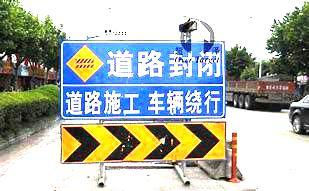sign: (58, 41, 227, 161)
